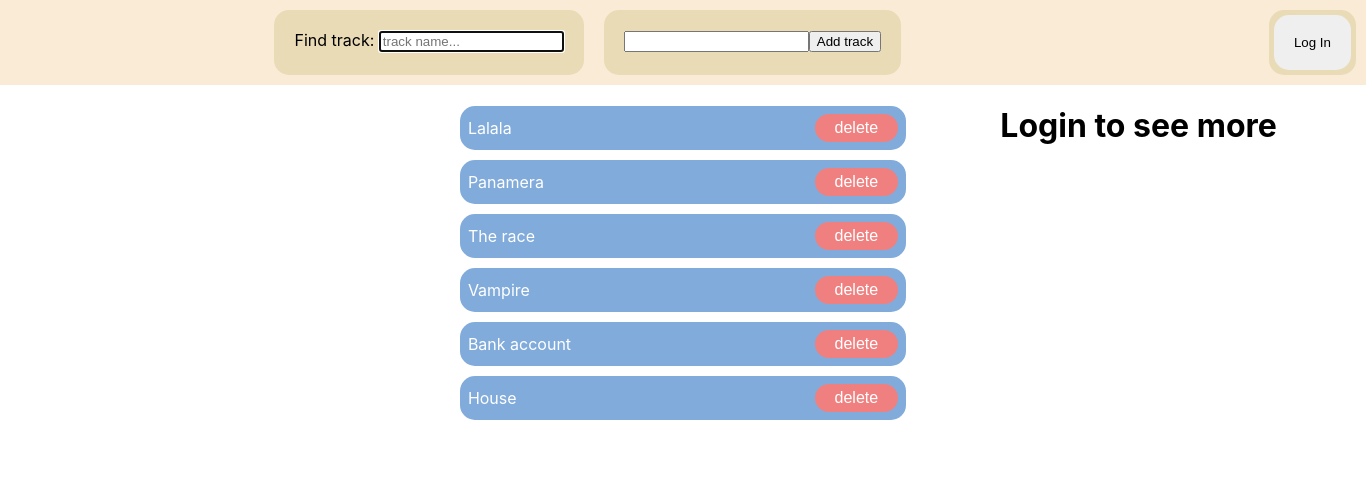
Test: Check main page › Check add track
Type "TestTrack" into the field with id "addTrack" at {"x": 717, "y": 42}, box [624, 31, 809, 52]
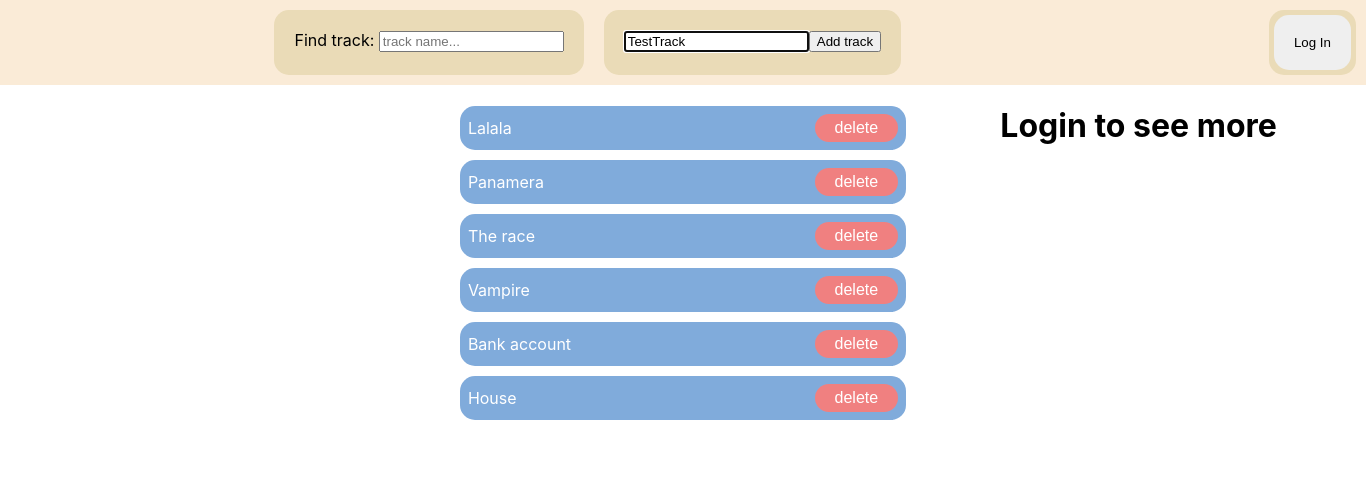
Click the button with id "addTrack" at {"x": 845, "y": 42}, box [809, 31, 881, 52]
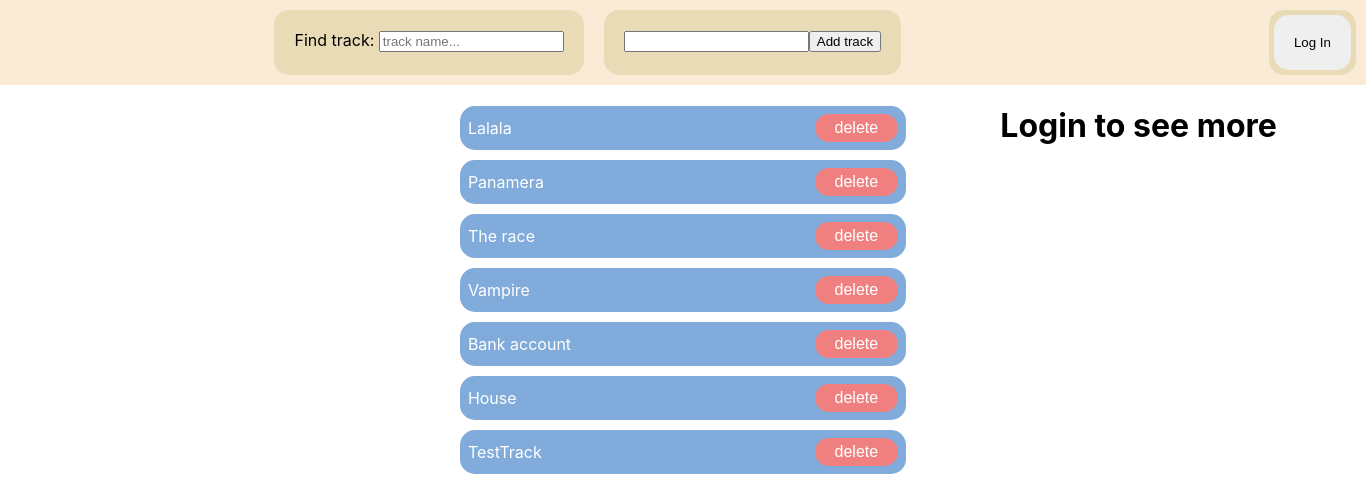
Check: the list item "TestTrack" is shown, box [468, 442, 542, 462]
